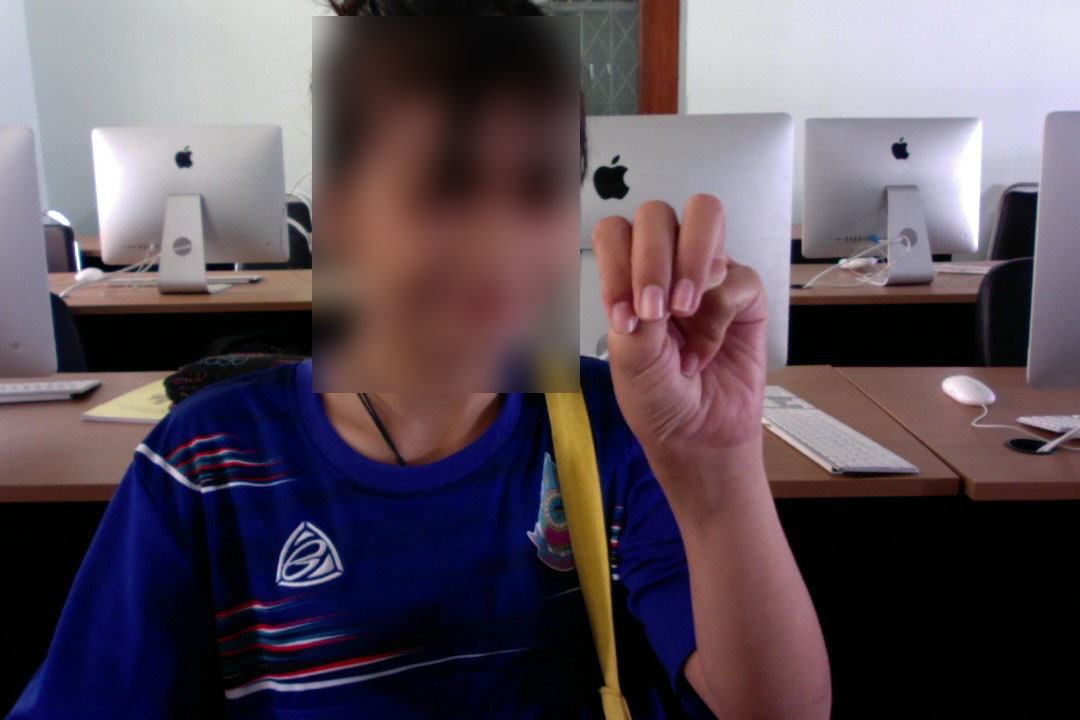mor: (588, 185, 777, 472)
